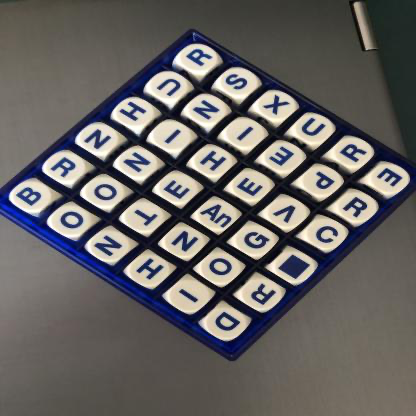an: (198, 200, 239, 232)
b: (13, 182, 54, 212)
c: (306, 219, 347, 250)
d: (207, 309, 248, 340)
e: (160, 174, 201, 205), (233, 171, 273, 202), (265, 144, 304, 174), (371, 165, 410, 195)
g: (235, 226, 276, 258)
h: (130, 254, 172, 288), (194, 148, 232, 177), (116, 99, 154, 127)
i: (170, 281, 213, 313), (153, 123, 193, 152), (226, 120, 266, 149)
n: (90, 230, 132, 262), (79, 126, 120, 155), (188, 96, 228, 125), (119, 149, 159, 178), (166, 228, 206, 257)
o: (201, 253, 242, 285), (50, 207, 92, 237), (86, 179, 127, 208)
p: (304, 167, 343, 195)
r: (46, 153, 88, 184), (241, 280, 282, 311), (334, 138, 374, 168), (178, 44, 219, 73), (339, 193, 378, 223)
s: (218, 68, 258, 98)
t: (125, 203, 165, 232)
u: (296, 115, 334, 145), (150, 73, 189, 102)
v: (267, 198, 308, 228)
wild: (274, 252, 316, 283)
x: (259, 92, 298, 121)
